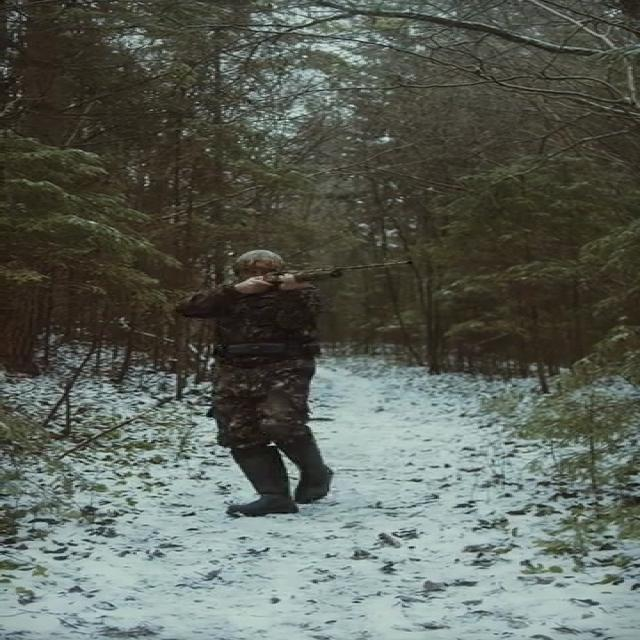Gun_Holder: (239, 258, 425, 293)
Person: (176, 245, 357, 522)
